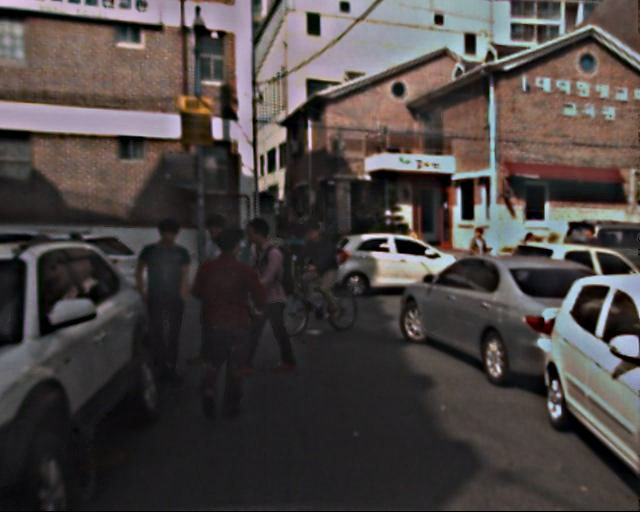person: (185, 231, 262, 420), (134, 218, 206, 381), (231, 215, 298, 372), (186, 216, 253, 372), (298, 223, 339, 321), (469, 229, 494, 288)
